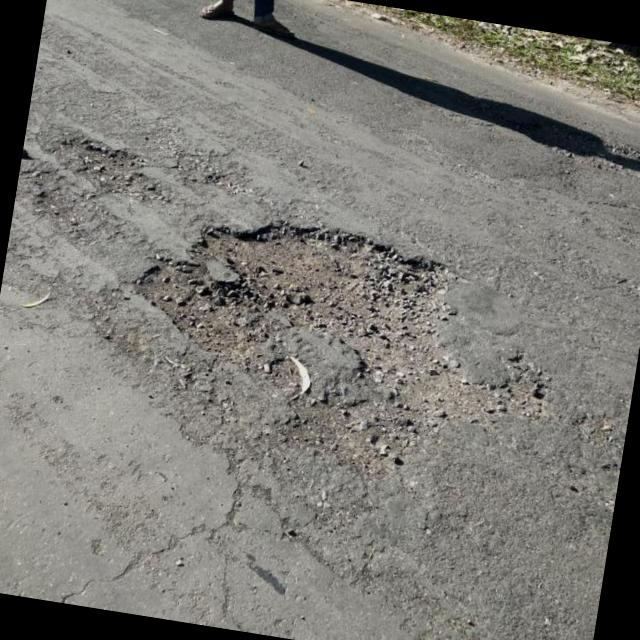pothole: (107, 189, 578, 502), (48, 130, 150, 199)
